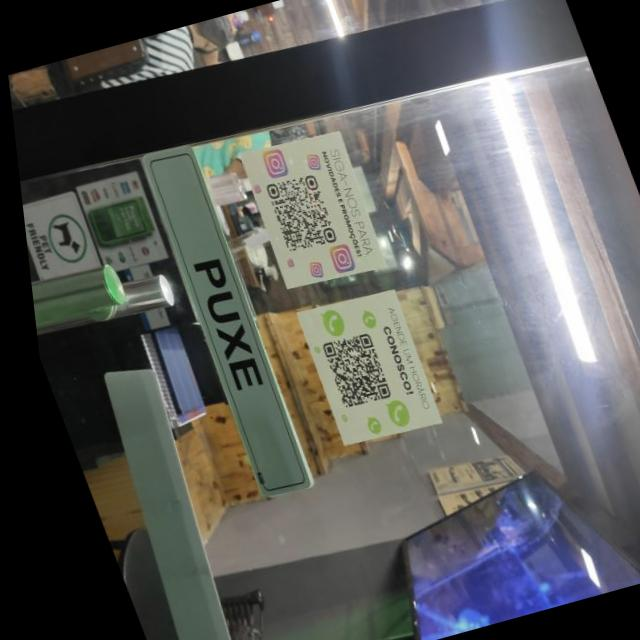qrcode: (258, 173, 334, 254), (311, 332, 385, 411)
